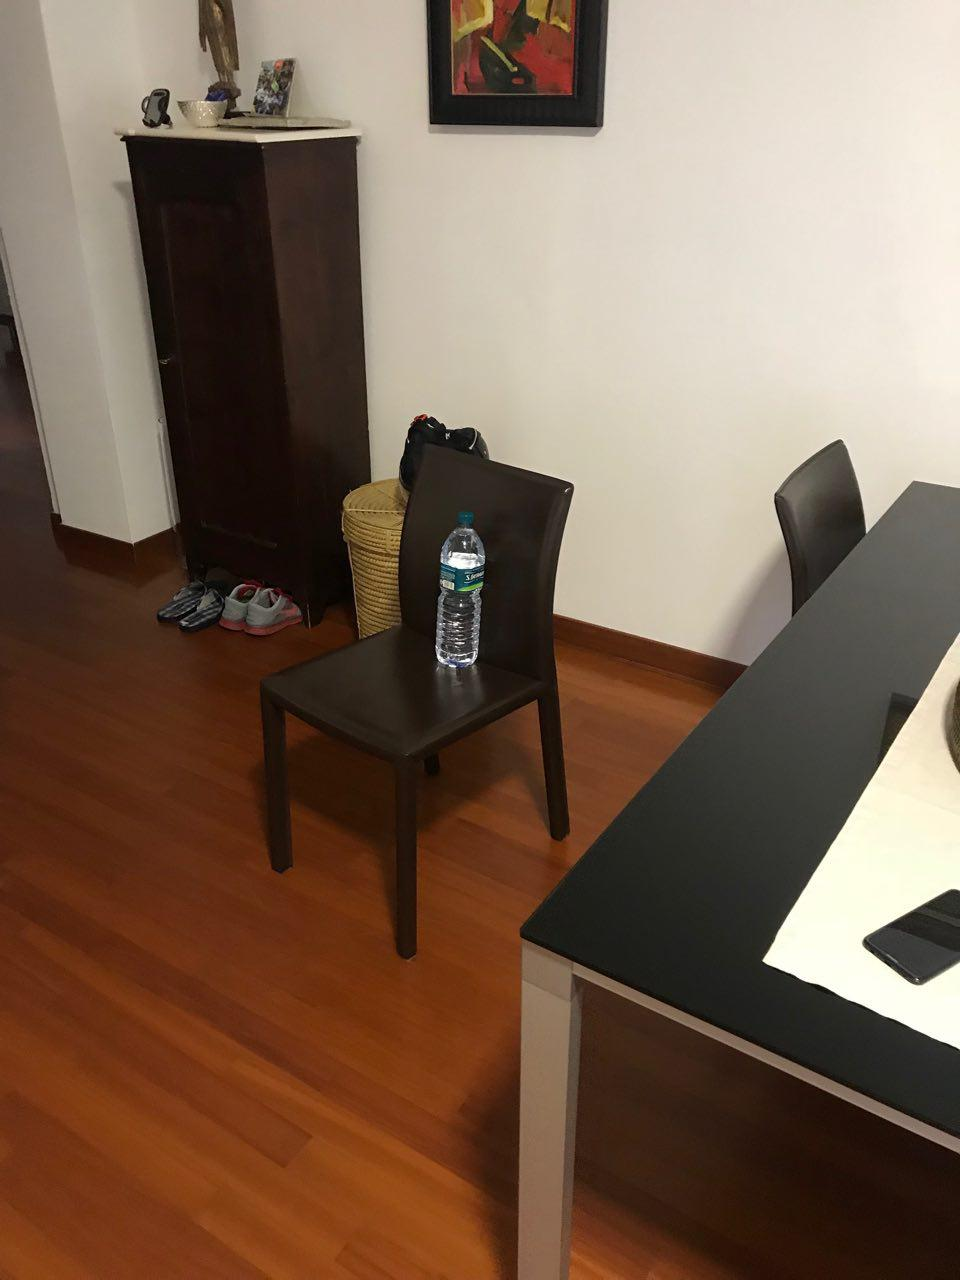san_bernardo: (434, 510, 484, 668)
